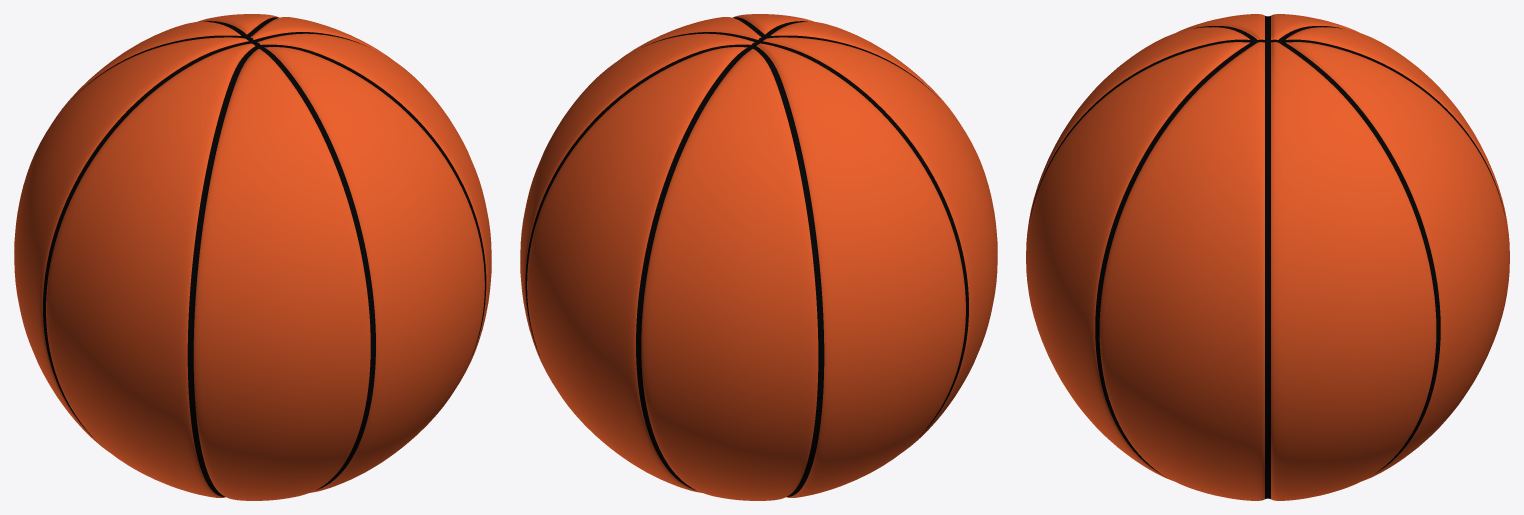
Rendered from Ball5.fbx.
3 renders of one model, left to right at view 1: azimuth 30°, elevation 25°; view 2: azimuth 150°, elevation 25°; view 3: azimuth 270°, elevation 25°, orthographic.
Parts seen in each view (by area): view 1: Sphere; view 2: Sphere; view 3: Sphere.
Part boxes in pixels (x1,y1,x2,y2): Sphere: [14, 14, 491, 500]; Sphere: [520, 14, 997, 500]; Sphere: [1026, 14, 1509, 500].
Bounding box in the file's own units: 196 × 196 × 196.
